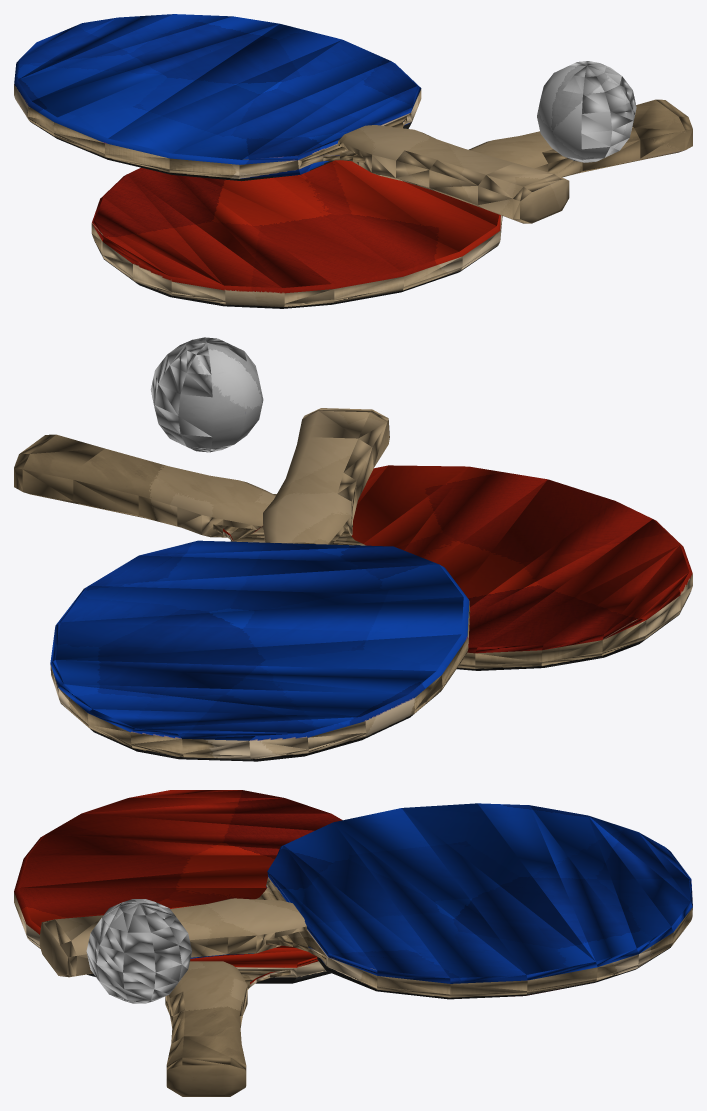
Rendered from PINGPONG.fbx.
The picture shows the model from 3 angles, top to bottom: view 1: azimuth 30°, elevation 25°; view 2: azimuth 150°, elevation 25°; view 3: azimuth 270°, elevation 25°; orthographic projection. The views are drawn at different scales.
Parts seen in each view (by area): view 1: Pingpong_BAKED; view 2: Pingpong_BAKED; view 3: Pingpong_BAKED.
Boxes of the visible parts, bbox=[...] form: Pingpong_BAKED: bbox=[14, 14, 692, 308]; Pingpong_BAKED: bbox=[14, 337, 692, 761]; Pingpong_BAKED: bbox=[14, 790, 692, 1096].
Size of the model in its own units: 27.01 by 5.96 by 27.32.
